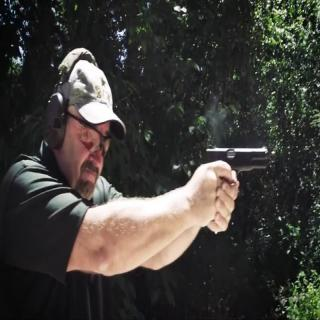gun: (200, 138, 274, 234)
